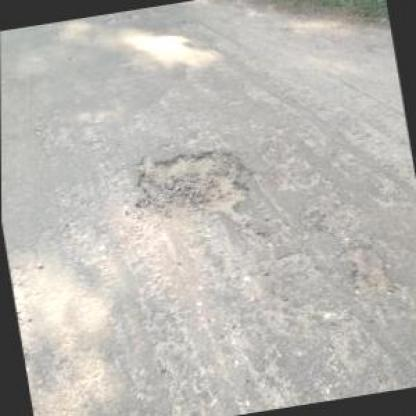pothole: (124, 137, 255, 236), (341, 242, 391, 296)
